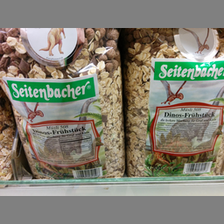cereal: (1, 29, 125, 181)
